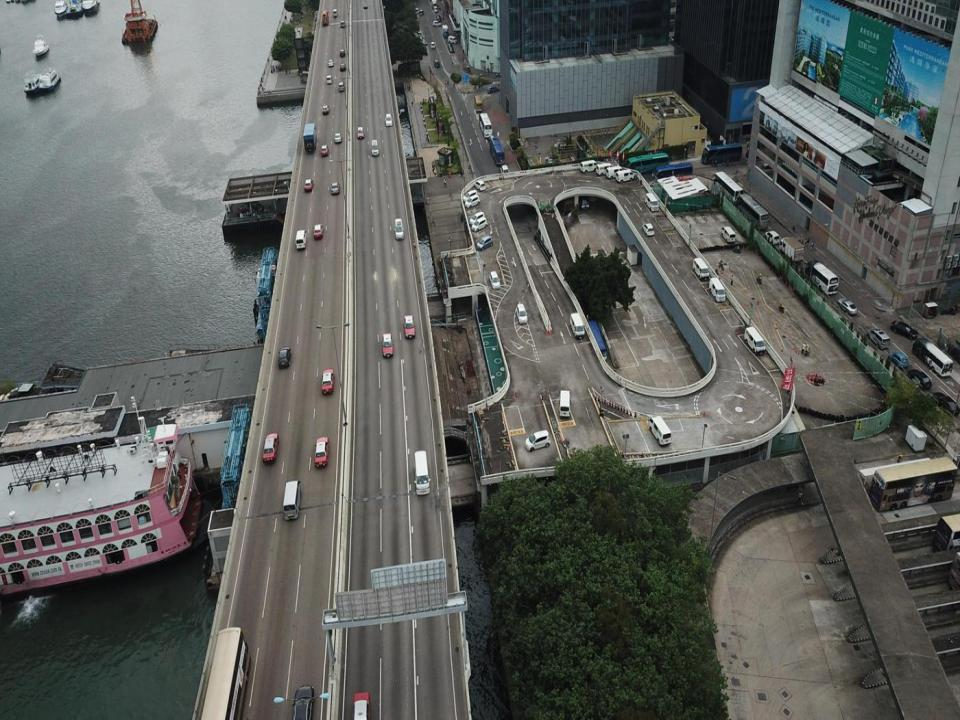bus: (197, 626, 253, 719), (914, 336, 954, 380), (624, 151, 670, 183), (805, 256, 841, 296), (735, 194, 767, 231), (652, 161, 694, 187), (700, 142, 743, 166), (713, 168, 739, 205), (583, 321, 607, 360), (489, 136, 505, 165), (478, 112, 493, 138), (472, 94, 483, 112)
car: (292, 684, 313, 719), (932, 389, 959, 416), (891, 319, 919, 343), (524, 428, 550, 453), (262, 430, 280, 464), (906, 366, 930, 391), (867, 326, 891, 350), (350, 692, 371, 719), (312, 435, 328, 469), (319, 368, 336, 396), (888, 349, 910, 370), (836, 295, 856, 316), (380, 333, 394, 360), (402, 313, 416, 340), (277, 346, 291, 370), (516, 302, 528, 326), (764, 228, 780, 246), (488, 270, 501, 292), (477, 234, 493, 251), (393, 218, 404, 240), (462, 190, 478, 205), (642, 219, 654, 238), (499, 163, 511, 182), (472, 218, 488, 232), (469, 211, 484, 225), (312, 222, 324, 239), (466, 194, 480, 208), (304, 177, 314, 193), (474, 178, 485, 192), (331, 180, 340, 195), (371, 138, 378, 156), (487, 84, 498, 95), (320, 143, 328, 158), (337, 80, 346, 93), (446, 39, 454, 53), (385, 113, 392, 128), (322, 103, 330, 116), (358, 126, 364, 140), (334, 132, 342, 142), (326, 74, 334, 84), (432, 20, 442, 28), (327, 57, 335, 66), (332, 8, 339, 18), (340, 62, 346, 73), (340, 19, 346, 29), (430, 40, 436, 50), (434, 56, 440, 66), (436, 13, 441, 23), (363, 2, 369, 10), (433, 4, 439, 12), (340, 49, 346, 56)
truck: (778, 233, 804, 265), (301, 121, 318, 152), (321, 10, 329, 27), (440, 22, 448, 38)
van: (283, 478, 302, 520), (648, 415, 672, 448), (414, 451, 429, 496), (744, 327, 766, 357), (568, 312, 586, 339), (557, 390, 572, 419), (691, 258, 710, 280), (709, 278, 726, 302), (644, 190, 658, 213), (294, 229, 308, 250), (614, 169, 634, 183), (605, 165, 624, 179), (720, 225, 735, 242), (594, 162, 612, 176), (580, 160, 598, 174), (448, 32, 457, 44)
